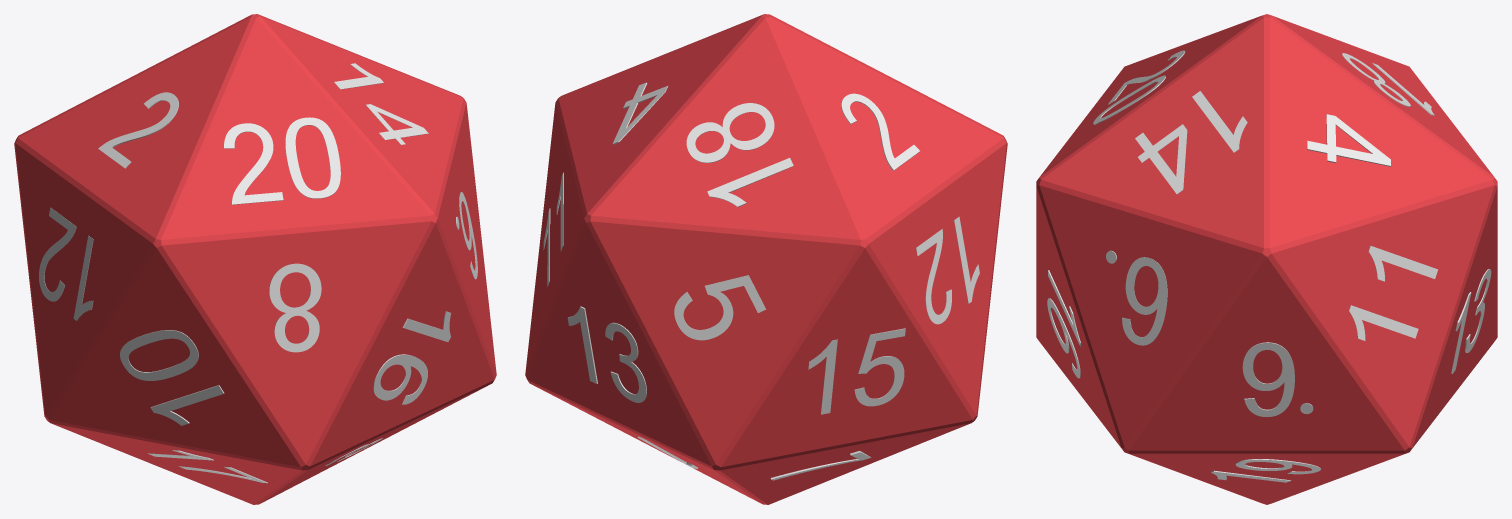
3 renders of one model, left to right at view 1: azimuth 30°, elevation 25°; view 2: azimuth 150°, elevation 25°; view 3: azimuth 270°, elevation 25°, orthographic.
Parts seen in each view (by area): view 1: Icosphere.001, 20.001, 10.001, 8.001, 16.001, 12.001, 14.001, 2.002, 17.001, 6.002; view 2: Icosphere.001, 18.001, 15.001, 5.002, 13.001, 12.001, 2.002, 4.002, 11.001; view 3: Icosphere.001, 14.001, 9.001, 11.001, 6.002, 4.002, 19.001, 16.001, 20.001, 13.001, 18.001.
Part boxes in pixels (x1=…): Icosphere.001: x1=14, y1=14, x2=496, y2=504; 20.001: x1=224, y1=117, x2=340, y2=204; 10.001: x1=120, y1=330, x2=224, y2=425; 8.001: x1=269, y1=263, x2=321, y2=352; 16.001: x1=373, y1=311, x2=450, y2=404; 12.001: x1=39, y1=207, x2=93, y2=320; 14.001: x1=334, y1=63, x2=428, y2=144; 2.002: x1=98, y1=92, x2=178, y2=168; 17.001: x1=148, y1=450, x2=267, y2=483; 6.002: x1=459, y1=192, x2=477, y2=279; Icosphere.001: x1=525, y1=14, x2=1007, y2=504; 18.001: x1=686, y1=103, x2=793, y2=207; 15.001: x1=808, y1=328, x2=905, y2=414; 5.002: x1=674, y1=275, x2=765, y2=340; 13.001: x1=567, y1=306, x2=646, y2=402; 12.001: x1=916, y1=216, x2=979, y2=324; 2.002: x1=841, y1=93, x2=919, y2=170; 4.002: x1=612, y1=82, x2=667, y2=144; 11.001: x1=543, y1=172, x2=563, y2=286; Icosphere.001: x1=1036, y1=14, x2=1497, y2=504; 14.001: x1=1135, y1=91, x2=1247, y2=194; 9.001: x1=1242, y1=342, x2=1294, y2=416; 11.001: x1=1349, y1=245, x2=1438, y2=340; 6.002: x1=1122, y1=257, x2=1167, y2=345; 4.002: x1=1307, y1=114, x2=1390, y2=166; 19.001: x1=1211, y1=459, x2=1320, y2=482; 16.001: x1=1047, y1=270, x2=1080, y2=378; 20.001: x1=1093, y1=50, x2=1185, y2=124; 13.001: x1=1451, y1=269, x2=1491, y2=373; 18.001: x1=1342, y1=53, x2=1434, y2=115.
Size of the model in its own units: 1.78 by 1.97 by 1.69.
